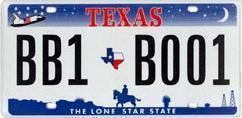placa de veiculo: (3, 2, 241, 115)
